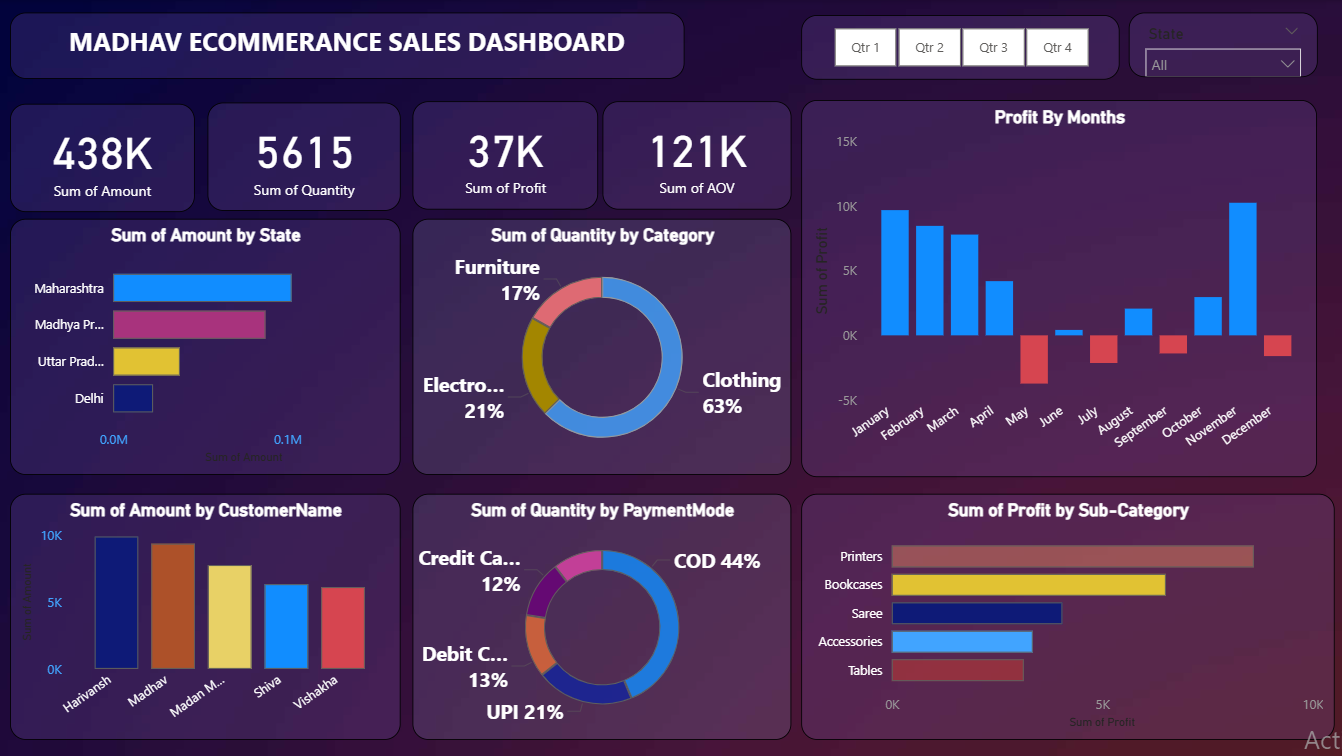

The page's visual inventory and layout, read from the dashboard file:
{"tool":"powerbi","page":{"name":"Madhav_Store_PowerBI_Dashboard","canvas":[1280,720],"ordinal":0},"visuals":[{"type":"columnChart","title":"Profit By Months","fields":{"Y":["Details.Profit"],"Category":["Orders.Order Date.Variation.Date Hierarchy.Month"]},"box":[763,94.7,491.3,359.5],"z":0},{"type":"barChart","fields":{"Y":["Details.Profit"],"Category":["Details.Sub-Category"]},"box":[763,470.7,507.7,234.6],"z":1000},{"type":"donutChart","fields":{"Category":["Details.Category"],"Y":["Details.Quantity"]},"box":[392.5,208.6,360.9,244.3],"z":2000},{"type":"donutChart","fields":{"Y":["Details.Quantity"],"Category":["Details.PaymentMode"]},"box":[392.5,470.7,360.9,234.6],"z":3000},{"type":"card","fields":{"Values":["Details.Amount"]},"box":[9.6,98.8,175.6,102.9],"z":4000},{"type":"card","fields":{"Values":["Details.Profit"]},"box":[392.5,96.1,177,102.9],"z":5000},{"type":"card","fields":{"Values":["Details.Quantity"]},"box":[197.6,97.4,183.9,102.9],"z":6000},{"type":"card","fields":{"Values":["Details.AOV"]},"box":[573.6,96.1,179.8,102.9],"z":7000},{"type":"barChart","fields":{"Y":["Details.Amount"],"Category":["Orders.State"]},"box":[9.6,208.6,371.9,244.3],"z":8000},{"type":"columnChart","fields":{"Category":["Orders.CustomerName"],"Y":["Details.Amount"]},"box":[9.6,470.7,371.9,234.6],"z":9000},{"type":"textbox","box":[9.6,12.3,642.2,63.1],"z":10000},{"type":"slicer","fields":{"Values":["Orders.Order Date.Variation.Date Hierarchy.Quarter"]},"box":[763,13.7,303.3,61.7],"z":11000},{"type":"slicer","fields":{"Values":["Orders.State"]},"box":[1074.4,12.3,179.8,61.7],"z":12000}]}

Visuals, with their boxes in screenshot pixels (x1, y1, x2, y2), scaled from the page's 1280x720 canvas onto the 1342x756 screenshot:
"Profit By Months" columnChart: <bbox>800, 99, 1315, 477</bbox>
barChart - Details.Profit x Details.Sub-Category: <bbox>800, 494, 1332, 741</bbox>
donutChart - Details.Category x Details.Quantity: <bbox>412, 219, 790, 476</bbox>
donutChart - Details.Quantity x Details.PaymentMode: <bbox>412, 494, 790, 741</bbox>
card - Details.Amount: <bbox>10, 104, 194, 212</bbox>
card - Details.Profit: <bbox>412, 101, 597, 209</bbox>
card - Details.Quantity: <bbox>207, 102, 400, 210</bbox>
card - Details.AOV: <bbox>601, 101, 790, 209</bbox>
barChart - Details.Amount x Orders.State: <bbox>10, 219, 400, 476</bbox>
columnChart - Orders.CustomerName x Details.Amount: <bbox>10, 494, 400, 741</bbox>
textbox: <bbox>10, 13, 683, 79</bbox>
slicer - Orders.Order Date.Variation.Date Hierarchy.Quarter: <bbox>800, 14, 1118, 79</bbox>
slicer - Orders.State: <bbox>1126, 13, 1315, 78</bbox>
